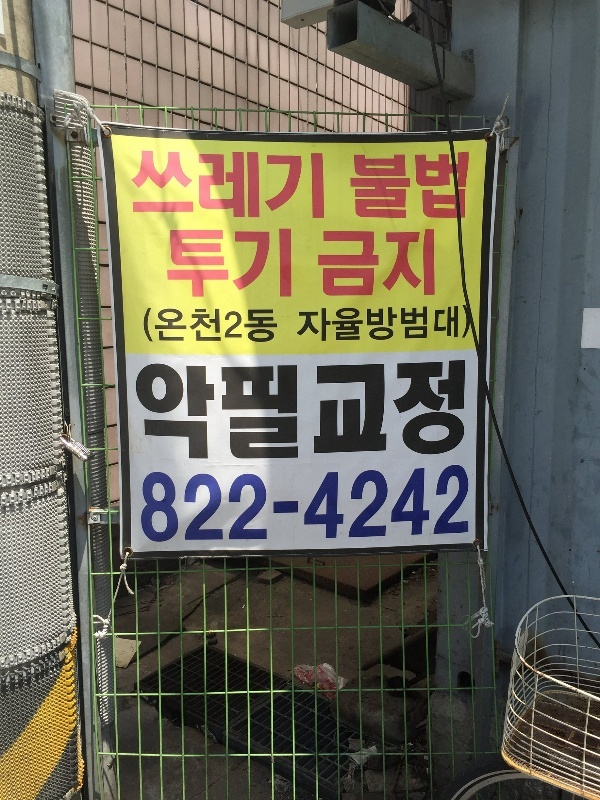text: (321, 352, 336, 464), (337, 352, 352, 464), (353, 352, 368, 464), (369, 352, 384, 464), (385, 352, 400, 464), (401, 352, 416, 464), (417, 352, 432, 464), (433, 352, 448, 464), (449, 352, 464, 464), (145, 361, 160, 466), (161, 361, 176, 466), (177, 361, 192, 466), (193, 361, 208, 466), (209, 361, 224, 466), (225, 361, 240, 466), (241, 361, 256, 466), (257, 361, 272, 466), (273, 361, 288, 466), (145, 464, 160, 551), (161, 464, 176, 551), (177, 464, 192, 551), (193, 464, 208, 551), (209, 464, 224, 551), (225, 464, 240, 551), (241, 464, 256, 551), (257, 464, 272, 551), (273, 464, 288, 551), (289, 464, 304, 551), (305, 464, 320, 551), (321, 464, 336, 551), (337, 464, 352, 551), (353, 464, 368, 551), (369, 464, 384, 551), (385, 464, 400, 551), (401, 464, 416, 551), (417, 464, 432, 551), (433, 464, 448, 551), (449, 464, 464, 551), (145, 147, 160, 224), (161, 147, 176, 224), (177, 147, 192, 224), (193, 147, 208, 224), (209, 147, 224, 224), (225, 147, 240, 224), (241, 147, 256, 224), (257, 147, 272, 224), (273, 147, 288, 224), (289, 147, 304, 224), (305, 147, 320, 224), (133, 361, 144, 466), (289, 361, 300, 466), (177, 227, 192, 302), (193, 227, 208, 302), (209, 227, 224, 302), (225, 227, 240, 302), (241, 227, 256, 302), (257, 227, 272, 302), (273, 227, 288, 302), (353, 149, 368, 222), (369, 149, 384, 222), (385, 149, 400, 222), (401, 149, 416, 222), (417, 149, 432, 222), (433, 149, 448, 222), (449, 149, 464, 222), (321, 227, 336, 300), (337, 227, 352, 300), (353, 227, 368, 300), (369, 227, 384, 300), (385, 227, 400, 300), (401, 227, 416, 300), (417, 227, 432, 300), (133, 147, 144, 224), (305, 302, 320, 347), (321, 302, 336, 347), (337, 302, 352, 347), (353, 302, 368, 347), (369, 302, 384, 347), (385, 302, 400, 347), (401, 302, 416, 347), (417, 302, 432, 347), (433, 302, 448, 347), (449, 302, 464, 347), (167, 227, 176, 302), (314, 352, 320, 464), (145, 307, 160, 347), (161, 307, 176, 347), (177, 307, 192, 347), (193, 307, 208, 347), (209, 307, 224, 347), (225, 307, 240, 347), (241, 307, 256, 347), (257, 307, 272, 347), (465, 464, 471, 551), (321, 147, 327, 224), (465, 352, 469, 464), (465, 149, 471, 222), (140, 464, 144, 551), (297, 302, 304, 347), (465, 302, 472, 347), (289, 227, 293, 302), (433, 227, 437, 300), (273, 307, 280, 347), (350, 149, 352, 222), (319, 227, 320, 300), (143, 307, 144, 347)
